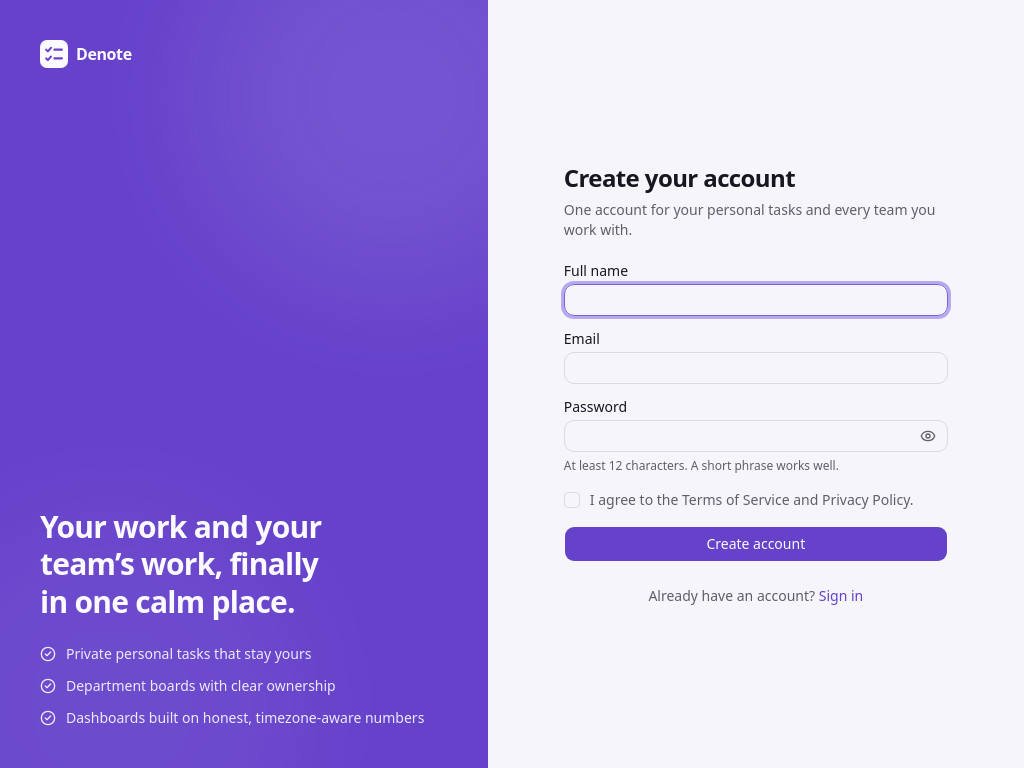
Test case: registration › creates the account with the detected timezone and opens onboarding
The image size is (1024, 768).
Type "Ada Lovelace" into the field labelled "Full name" at (756, 300), box [564,284,948,316]
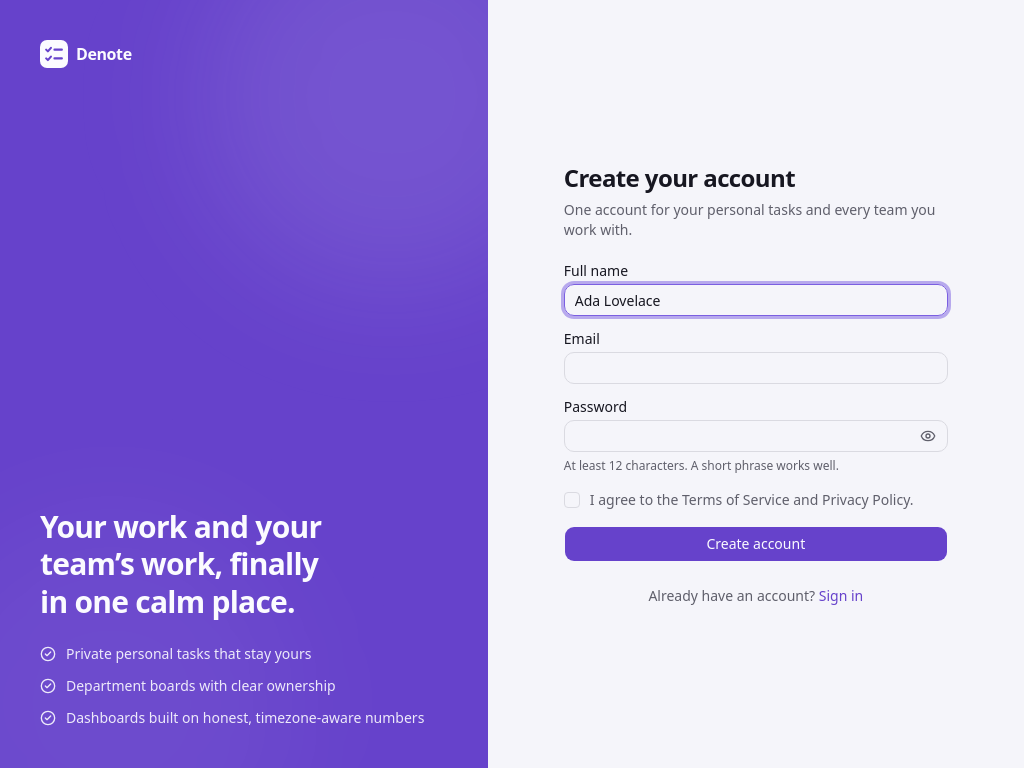
Type "ada@example.com" into the field labelled "Email" at (756, 368), box [564,352,948,384]
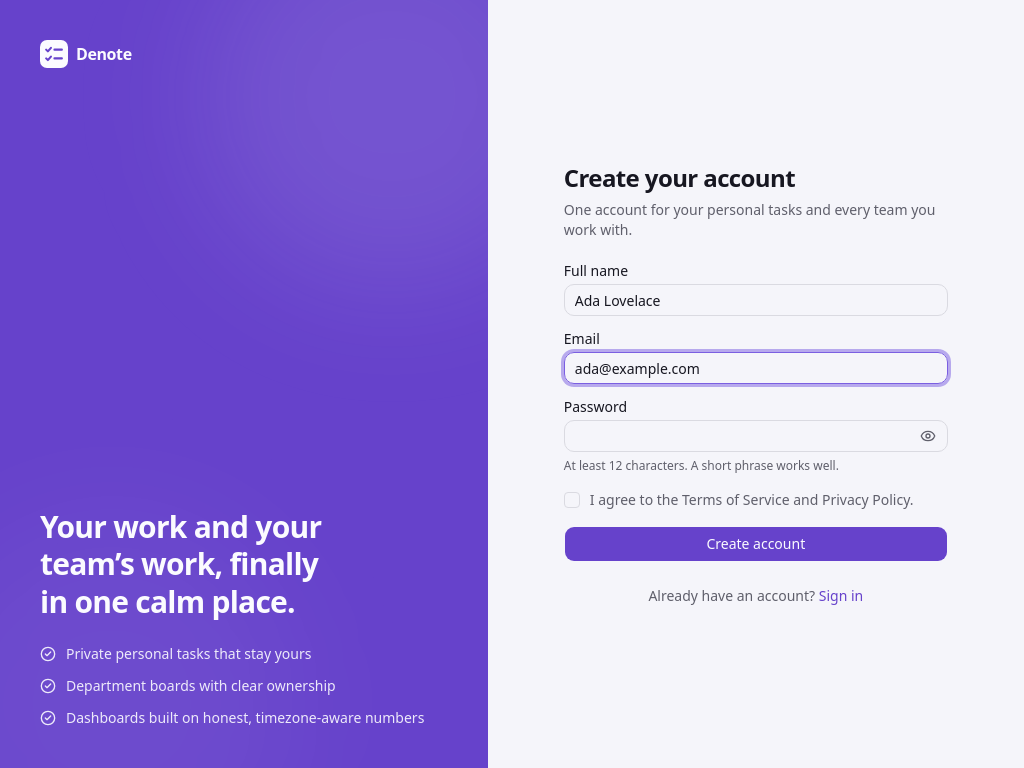
Type "correct horse battery staple" into the password field labelled "Password" at (756, 436), box [564,420,948,452]
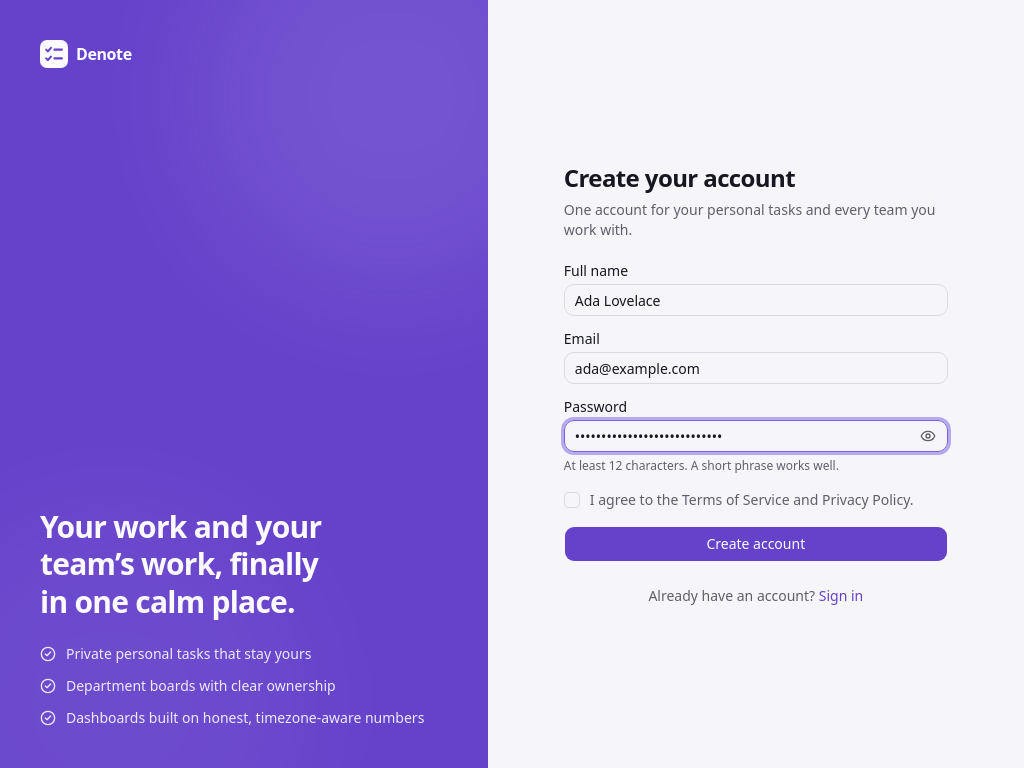
Click the checkbox at (572, 500), box [564,492,580,508]
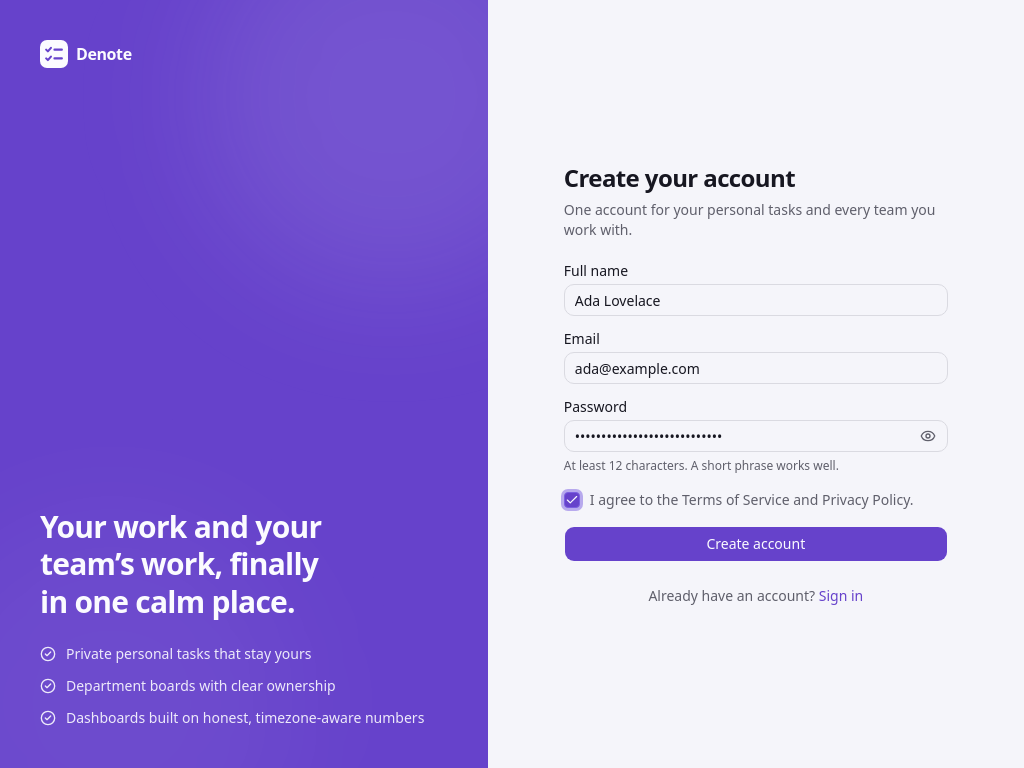
Click the button "Create account" at (756, 544), box [564,526,948,562]
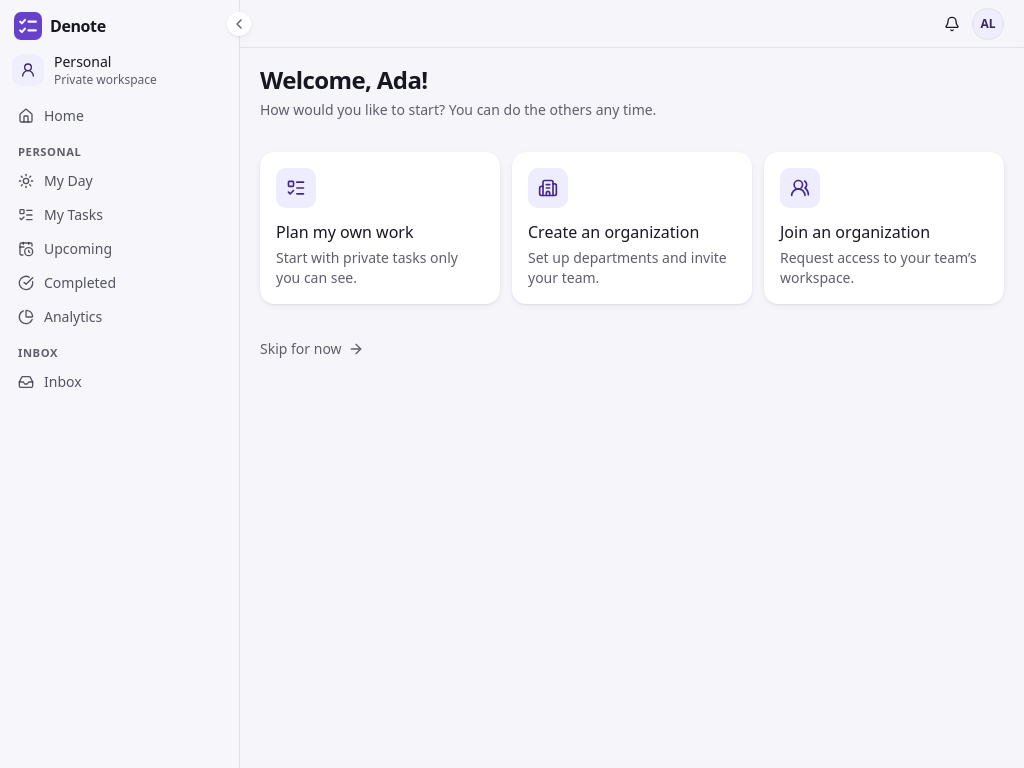
expect the heading "Welcome, Ada!" is shown: met, box [260,63,428,96]
